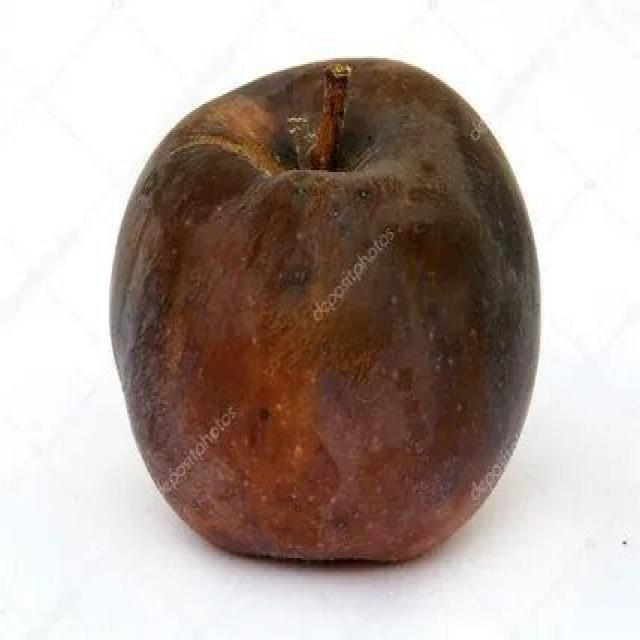Banana: (110, 58, 542, 568)
